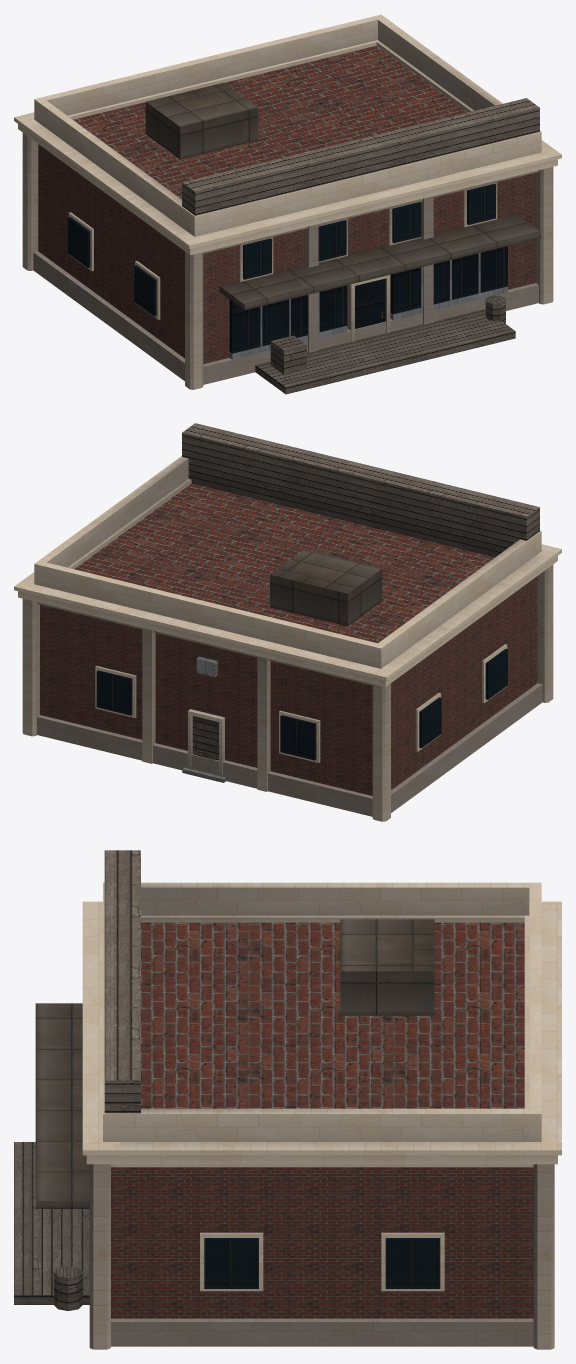
File: rural-general-store_lod0.gltf
The picture shows the model from 3 angles, top to bottom: view 1: azimuth 30°, elevation 25°; view 2: azimuth 150°, elevation 25°; view 3: azimuth 270°, elevation 25°; orthographic projection. The views are drawn at different scales.
Visible parts, largest first — view 1: rural-general-store__v4_stone_detail, rural-general-store_tier0, rural-general-store_fen_07-glass-curtain-blue_1_t, rural-general-store__v4_metal_detail, rural-general-store_tier1, rural-general-store__porch, rural-general-store_fen_04-limestone_2, rural-general-store_fen_14-steel-panel_0, rural-general-store__rocking_chair, rural-general-store__barrels; view 2: rural-general-store_tier0, rural-general-store__v4_stone_detail, rural-general-store_tier1, rural-general-store__v4_metal_detail, rural-general-store_fen_07-glass-curtain-blue_1_t, rural-general-store_fen_04-limestone_2, rural-general-store_fen_18-timber-siding_4; view 3: rural-general-store_tier0, rural-general-store__v4_stone_detail, rural-general-store__v4_metal_detail, rural-general-store_tier1, rural-general-store__porch, rural-general-store_fen_07-glass-curtain-blue_1_t, rural-general-store_fen_04-limestone_2, rural-general-store__barrels.
Part boxes in pixels (left/top/right/bottom): rural-general-store__v4_stone_detail: left=14, top=14, right=561, bottom=389; rural-general-store_tier0: left=38, top=46, right=535, bottom=363; rural-general-store_fen_07-glass-curtain-blue_1_t: left=68, top=184, right=507, bottom=353; rural-general-store__v4_metal_detail: left=145, top=82, right=540, bottom=310; rural-general-store_tier1: left=182, top=98, right=539, bottom=215; rural-general-store__porch: left=255, top=309, right=515, bottom=394; rural-general-store_fen_04-limestone_2: left=68, top=182, right=497, bottom=341; rural-general-store_fen_14-steel-panel_0: left=229, top=252, right=507, bottom=359; rural-general-store__rocking_chair: left=270, top=335, right=306, bottom=374; rural-general-store__barrels: left=485, top=295, right=505, bottom=323; rural-general-store_tier0: left=40, top=483, right=537, bottom=795; rural-general-store__v4_stone_detail: left=14, top=456, right=561, bottom=821; rural-general-store_tier1: left=182, top=423, right=539, bottom=557; rural-general-store__v4_metal_detail: left=270, top=549, right=382, bottom=626; rural-general-store_fen_07-glass-curtain-blue_1_t: left=96, top=648, right=507, bottom=760; rural-general-store_fen_04-limestone_2: left=95, top=644, right=507, bottom=776; rural-general-store_fen_18-timber-siding_4: left=192, top=716, right=218, bottom=760; rural-general-store_tier0: left=111, top=922, right=533, bottom=1318; rural-general-store__v4_stone_detail: left=82, top=882, right=561, bottom=1349; rural-general-store__v4_metal_detail: left=35, top=919, right=434, bottom=1208; rural-general-store_tier1: left=104, top=850, right=140, bottom=1113; rural-general-store__porch: left=14, top=1142, right=89, bottom=1304; rural-general-store_fen_07-glass-curtain-blue_1_t: left=204, top=1238, right=440, bottom=1288; rural-general-store_fen_04-limestone_2: left=200, top=1232, right=444, bottom=1291; rural-general-store__barrels: left=54, top=1266, right=82, bottom=1310.
Size of the model in its own units: 16.22 by 8.02 by 15.11.
